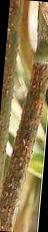Wheat: (0, 65, 47, 228)
